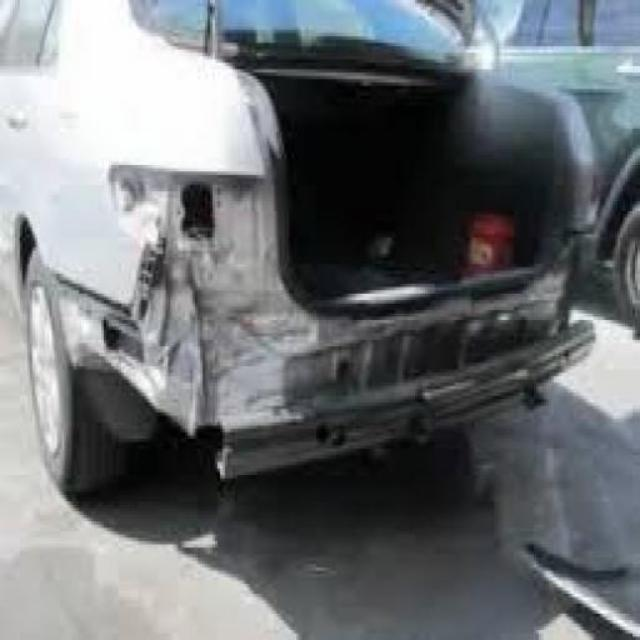no part: (53, 107, 594, 459)
